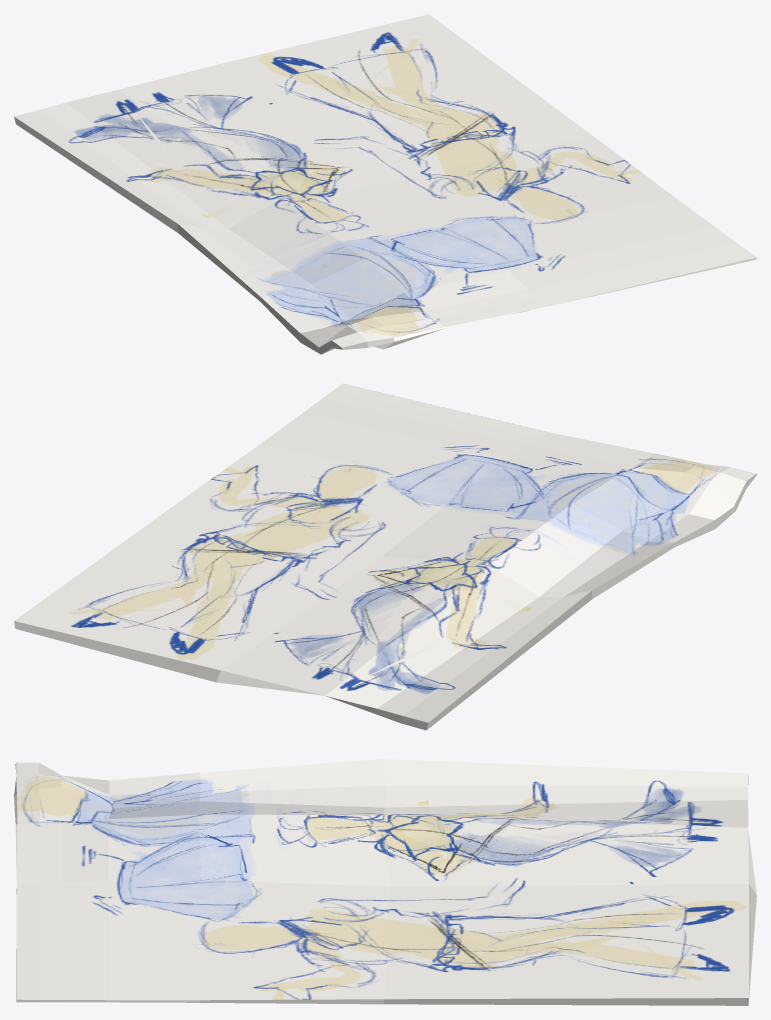
The model's file is fashion_sketch_paper_3.fbx.
3 views of the same model, one above another, from view 1: azimuth 30°, elevation 25°; view 2: azimuth 150°, elevation 25°; view 3: azimuth 270°, elevation 25° (orthographic). The views are drawn at different scales.
Visible parts, largest first — view 1: fashion_sketch_paper_3; view 2: fashion_sketch_paper_3; view 3: fashion_sketch_paper_3.
Boxes of the visible parts, bbox=[...] form: fashion_sketch_paper_3: bbox=[14, 14, 756, 354]; fashion_sketch_paper_3: bbox=[14, 383, 756, 730]; fashion_sketch_paper_3: bbox=[14, 759, 756, 1005].
Size of the model in its own units: 14.46 by 20.08 by 1.09.
1 material, 1 textured.
